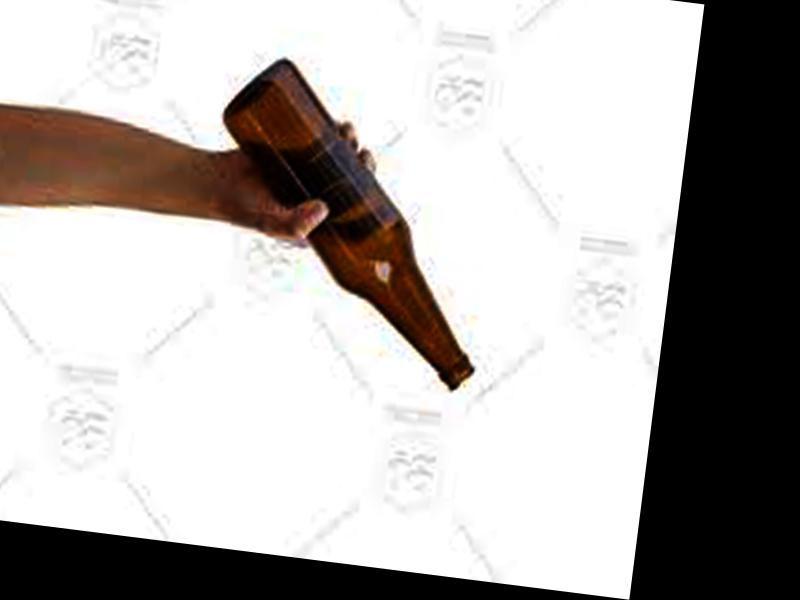Beer: (193, 50, 509, 390)
